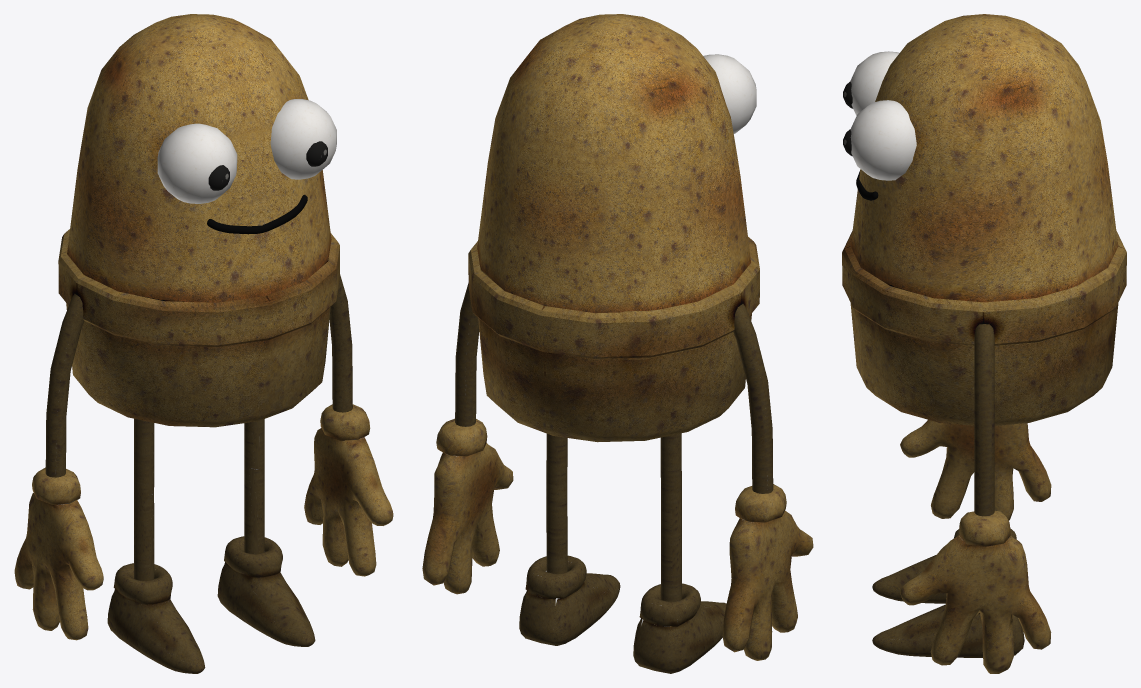
File: Personaje_Animar.fbx
3 renders of one model, left to right at view 1: azimuth 30°, elevation 25°; view 2: azimuth 150°, elevation 25°; view 3: azimuth 270°, elevation 25°, orthographic. The views are drawn at different scales.
Visible parts, largest first — view 1: Torso.001, Torso, Eyeballs, R_Hand, L_Hand, L_Foot, R_Foot, R_Arm, R_Leg, L_Leg, L_Arm; view 2: Torso.001, Torso, R_Hand, L_Hand, L_Foot, R_Foot, R_Arm, R_Leg, L_Leg, L_Arm, Eyeballs; view 3: Torso.001, Torso, L_Hand, R_Hand, Eyeballs, L_Arm, L_Foot, R_Foot.
Boxes of the visible parts, <box> form: Torso.001: <box>67,14,331,302</box>; Torso: <box>58,229,339,427</box>; Eyeballs: <box>157,99,336,234</box>; R_Hand: <box>14,467,103,640</box>; L_Hand: <box>304,404,393,576</box>; L_Foot: <box>217,536,315,646</box>; R_Foot: <box>107,563,205,673</box>; R_Arm: <box>45,293,83,477</box>; R_Leg: <box>134,418,154,580</box>; L_Leg: <box>244,419,264,553</box>; L_Arm: <box>329,274,352,412</box>; Torso.001: <box>477,14,750,313</box>; Torso: <box>468,237,759,442</box>; R_Hand: <box>722,484,813,660</box>; L_Hand: <box>422,418,513,594</box>; L_Foot: <box>519,555,620,645</box>; R_Foot: <box>633,583,726,673</box>; R_Arm: <box>733,304,773,493</box>; R_Leg: <box>660,433,681,601</box>; L_Leg: <box>546,434,567,573</box>; L_Arm: <box>455,283,479,426</box>; Eyeballs: <box>703,54,756,133</box>; Torso.001: <box>850,14,1118,302</box>; Torso: <box>842,231,1126,425</box>; L_Hand: <box>900,510,1051,673</box>; R_Hand: <box>900,419,1051,520</box>; Eyeballs: <box>843,51,916,200</box>; L_Arm: <box>974,324,994,516</box>; L_Foot: <box>872,604,1024,657</box>; R_Foot: <box>872,528,1016,603</box>.
Bounding box in the file's own units: 270 × 469 × 201.
Materials: 7 (6 with a texture image).
